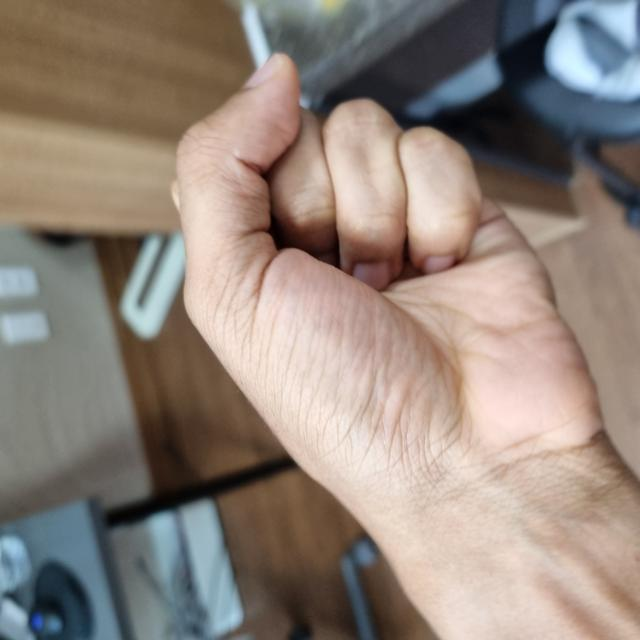Rock: (37, 174, 586, 605)
